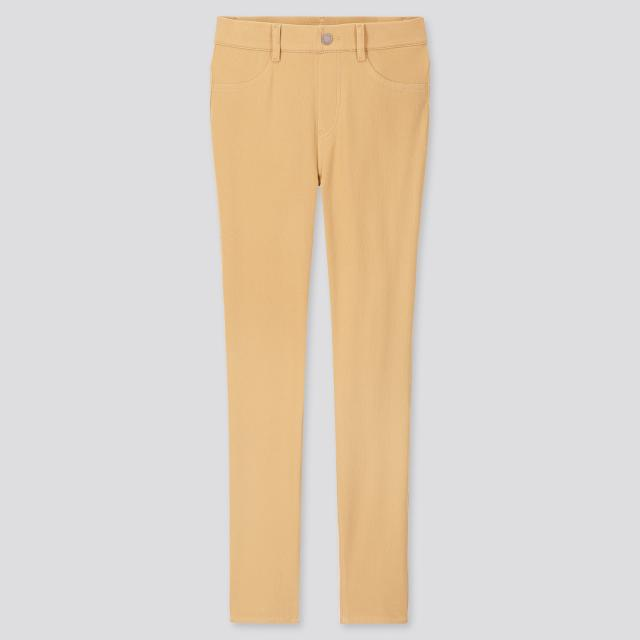long-pants: (209, 16, 431, 628)
